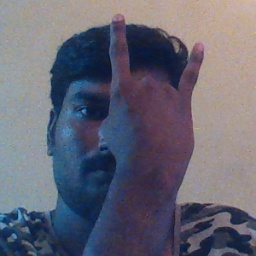V: (97, 11, 212, 171)
